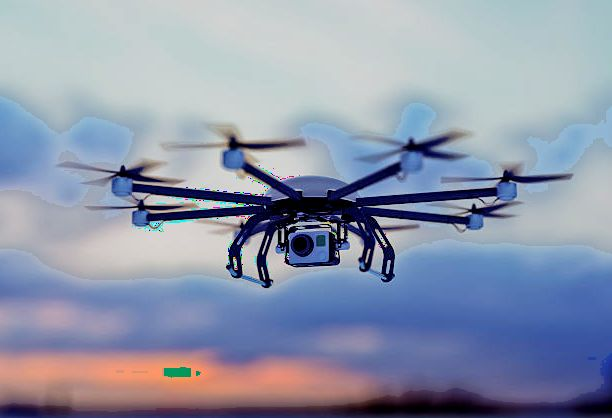Drone: (54, 125, 577, 294)
